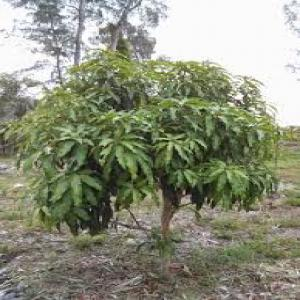Tree: (8, 51, 286, 234)
